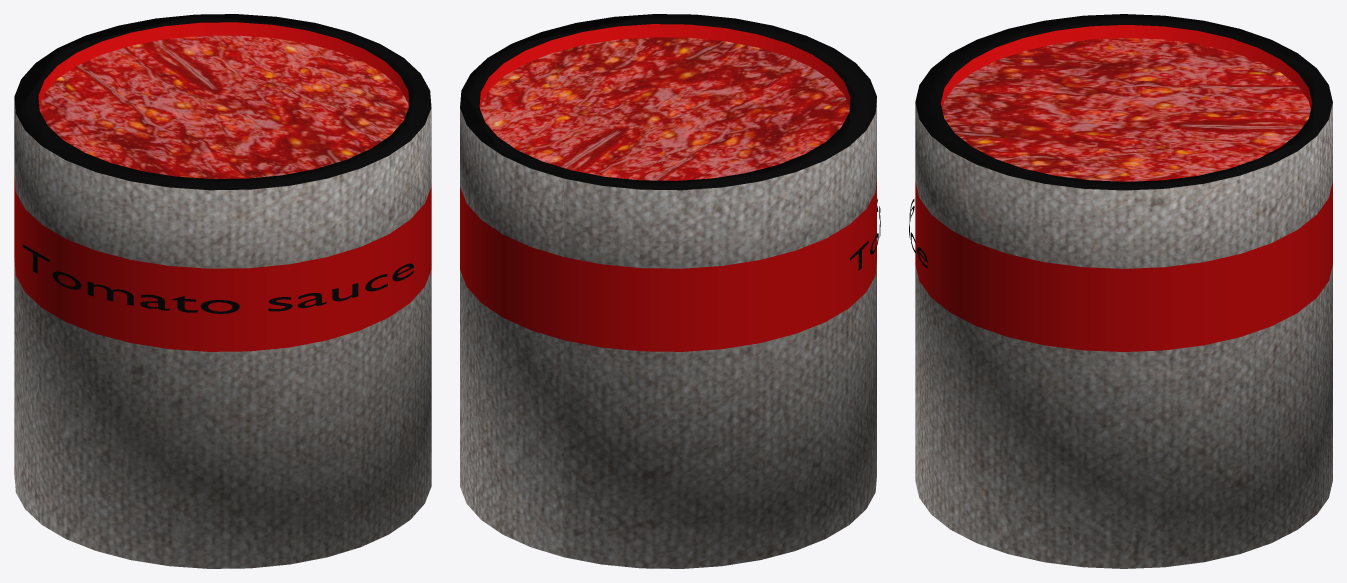
File: tomatensausbak.obj
3 views of the same model, side by side, from view 1: azimuth 30°, elevation 25°; view 2: azimuth 150°, elevation 25°; view 3: azimuth 270°, elevation 25° (orthographic).
Visible parts, largest first — view 1: Cylinder, Cylinder.001, Text_Text.007; view 2: Cylinder, Cylinder.001; view 3: Cylinder, Cylinder.001.
Boxes of the visible parts, left/top/right/bottom form: Cylinder: left=14, top=14, right=431, bottom=568; Cylinder.001: left=39, top=35, right=408, bottom=178; Text_Text.007: left=22, top=244, right=413, bottom=313; Cylinder: left=460, top=14, right=876, bottom=568; Cylinder.001: left=480, top=37, right=849, bottom=180; Cylinder: left=915, top=14, right=1332, bottom=568; Cylinder.001: left=942, top=38, right=1310, bottom=181.
Size of the model in its own units: 2.82 by 2.74 by 2.78.
7 materials, 2 textured.
